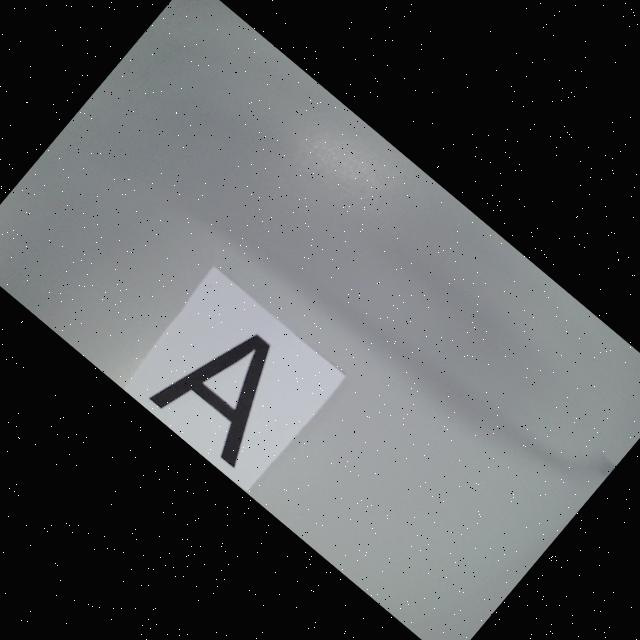FAKE: (148, 307, 310, 470)
